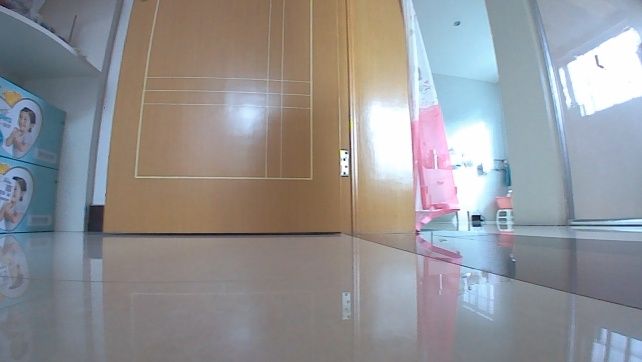door_anno: (100, 0, 417, 251)
